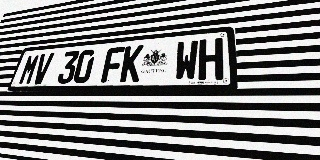0: (72, 49, 96, 83)
3: (56, 50, 80, 84)
F: (101, 46, 125, 83)
H: (198, 38, 223, 80)
K: (119, 45, 144, 82)
M: (18, 54, 41, 85)
V: (31, 53, 54, 84)
W: (174, 40, 199, 81)
